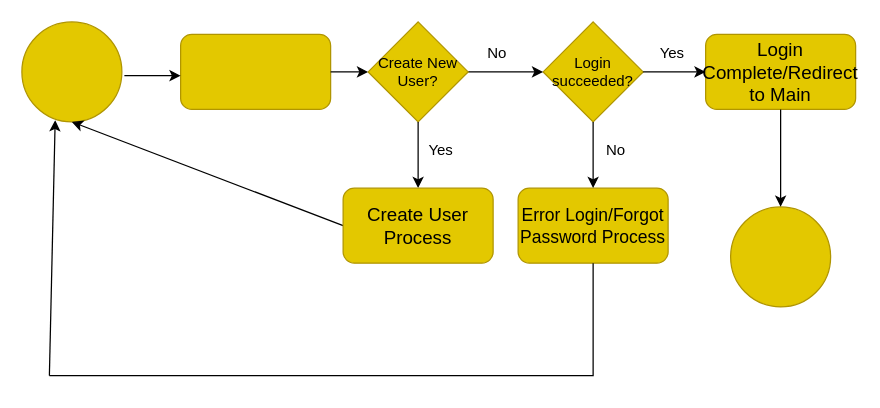
The diagram is 880 pixels wide and 408 high, and some of its shapes have lost their labels. Each missing label, with the centre of its shape:
End: pixel 780 256
Enter User Info: pixel 255 71
Start: pixel 71 71
